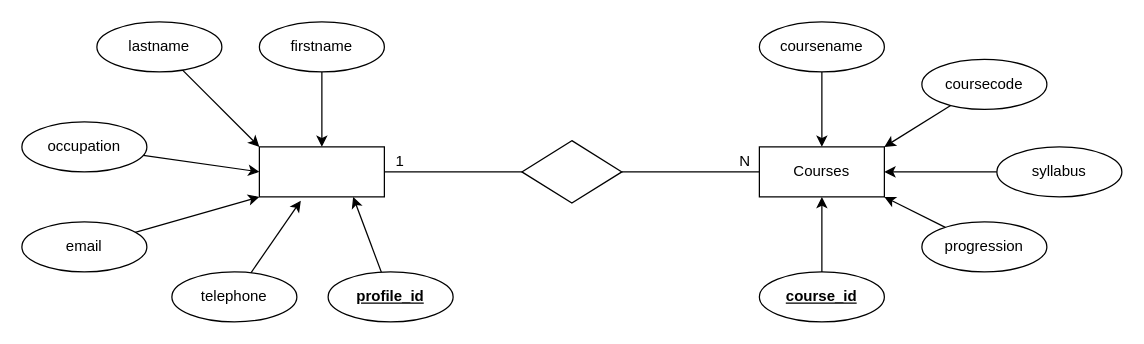
The diagram is 1144 pixels wide and 344 high, and some of its shapes have lost their labels. The box of each missing label's shape, as (x1, y1, x2, y2) in pixels:
has: (521, 139, 622, 203)
Profile: (258, 146, 384, 197)
